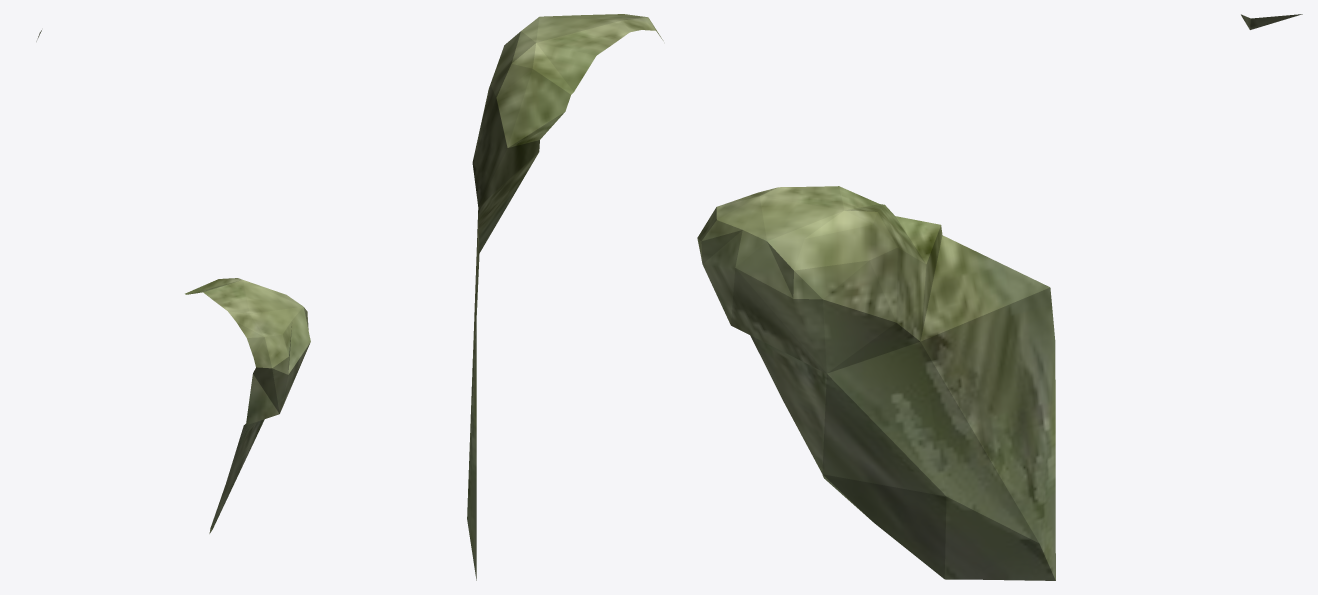
3 renders of one model, left to right at view 1: azimuth 30°, elevation 25°; view 2: azimuth 150°, elevation 25°; view 3: azimuth 270°, elevation 25°, orthographic. The views are drawn at different scales.
Bounding box in the file's own units: 0.3749 × 1.9 × 1.84.
1 material, 1 textured.
